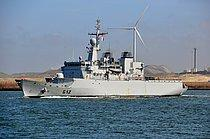MIL_Ship: (14, 30, 188, 97)
